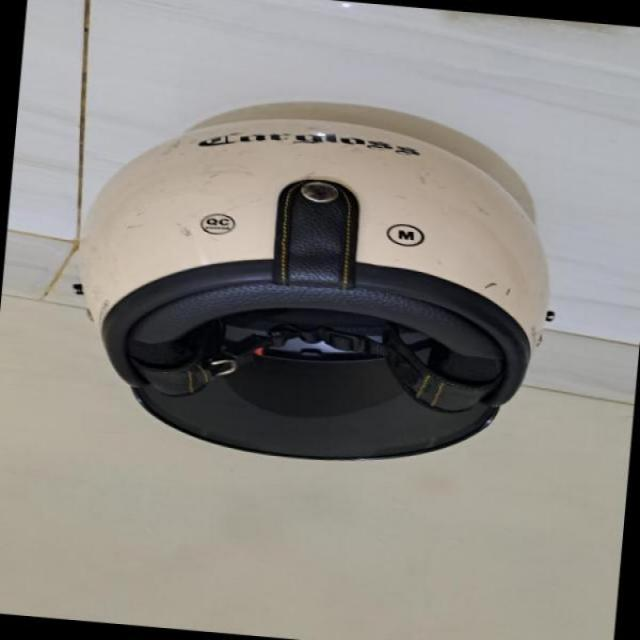Helmet: (83, 98, 553, 475)
